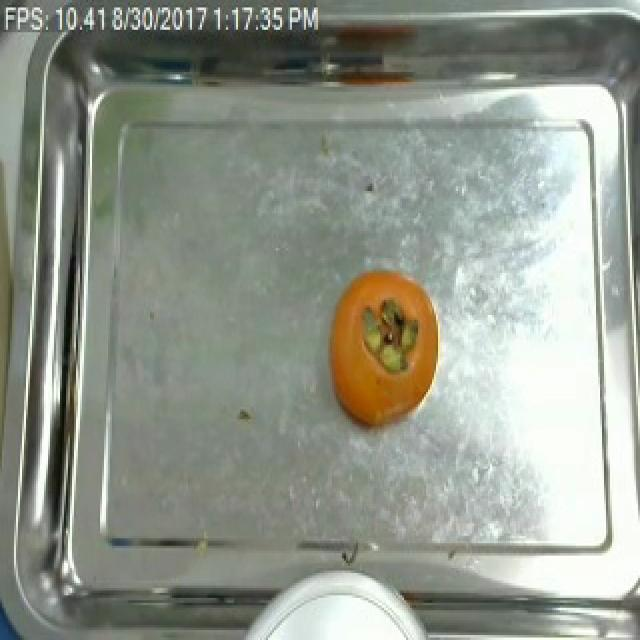Fruit: (322, 263, 444, 432)
